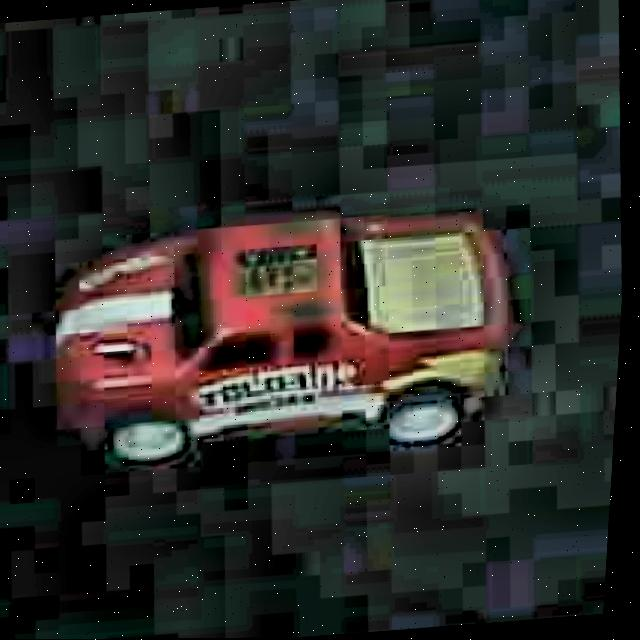car: (28, 200, 526, 478)
